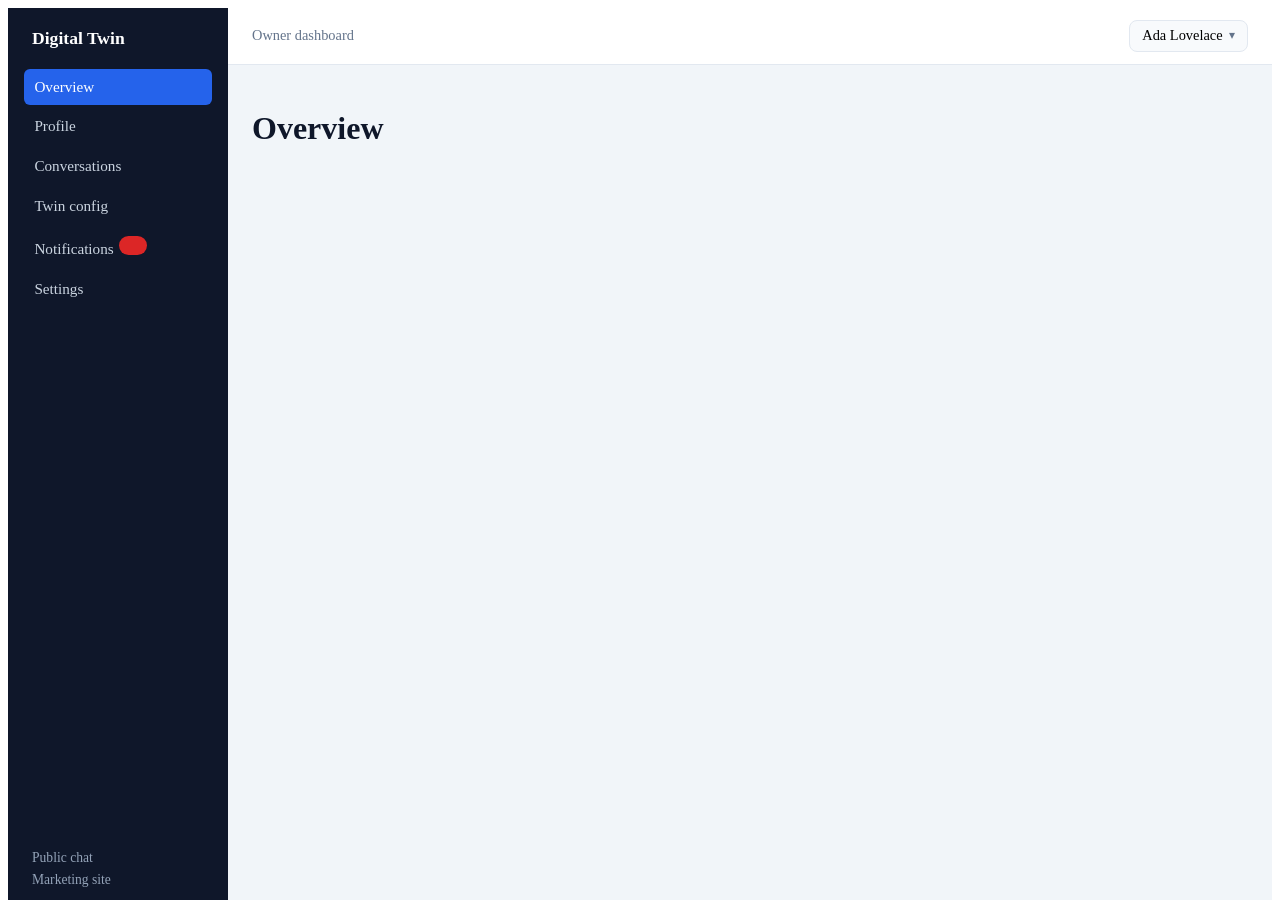
Test case: DashboardLayout › renders sidebar nav and user menu logout
This screenshot has width=1280, height=900.
expect the link "Overview" is shown: met, box top-left (24, 69), bottom-right (212, 105)
expect the link "Profile" is shown: met, box top-left (34, 117), bottom-right (76, 134)
Click the button "Ada Lovelace ▾": [1189, 36] box top-left (1129, 20), bottom-right (1248, 52)
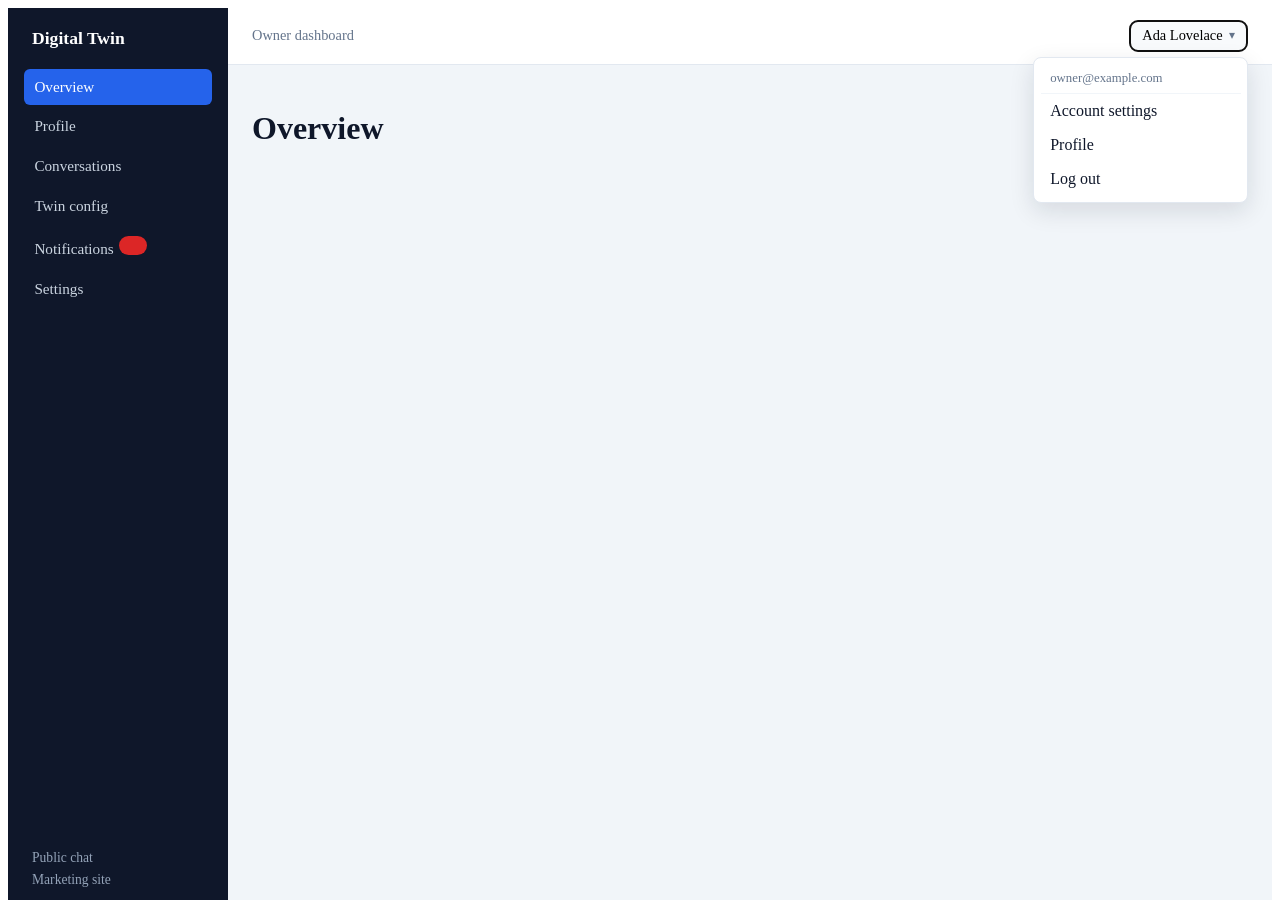
expect the menu item "Log out" is shown: met, box top-left (1041, 162), bottom-right (1241, 196)
